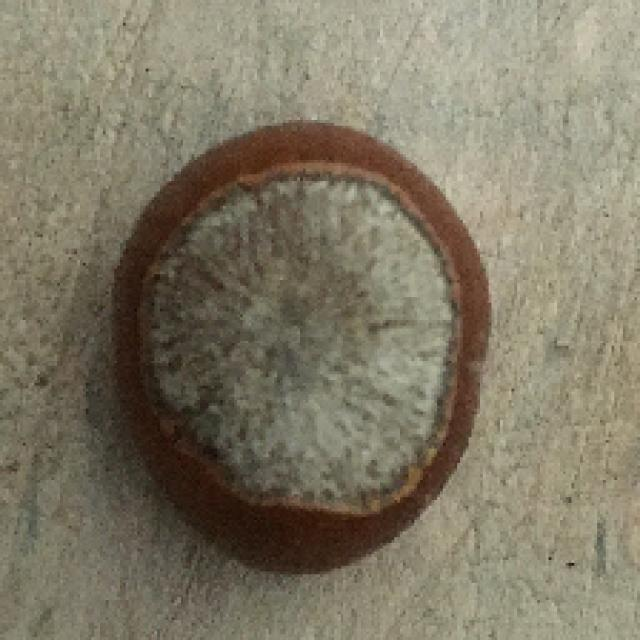qualityHazelnut: (97, 126, 496, 587)
